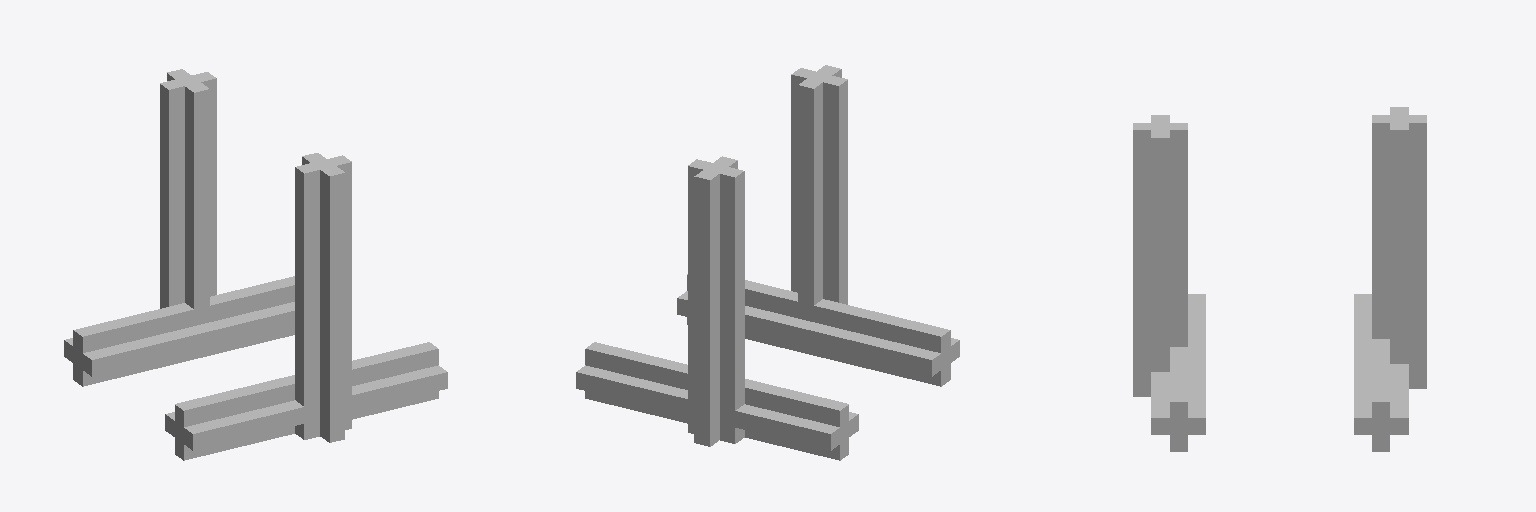
The model's file is pole_scaffolding_base.obj.
3 views of the same model, side by side, from view 1: azimuth 30°, elevation 25°; view 2: azimuth 150°, elevation 25°; view 3: azimuth 270°, elevation 25° (orthographic).
Visible parts, largest first — view 1: node_0_0_0; view 2: node_0_0_0; view 3: node_0_0_0.
Part boxes in pixels (bbox=[...]): node_0_0_0: bbox=[64, 69, 447, 460]; node_0_0_0: bbox=[576, 65, 959, 460]; node_0_0_0: bbox=[1133, 107, 1426, 451].
Bounding box in the file's own units: 1 × 1 × 1.